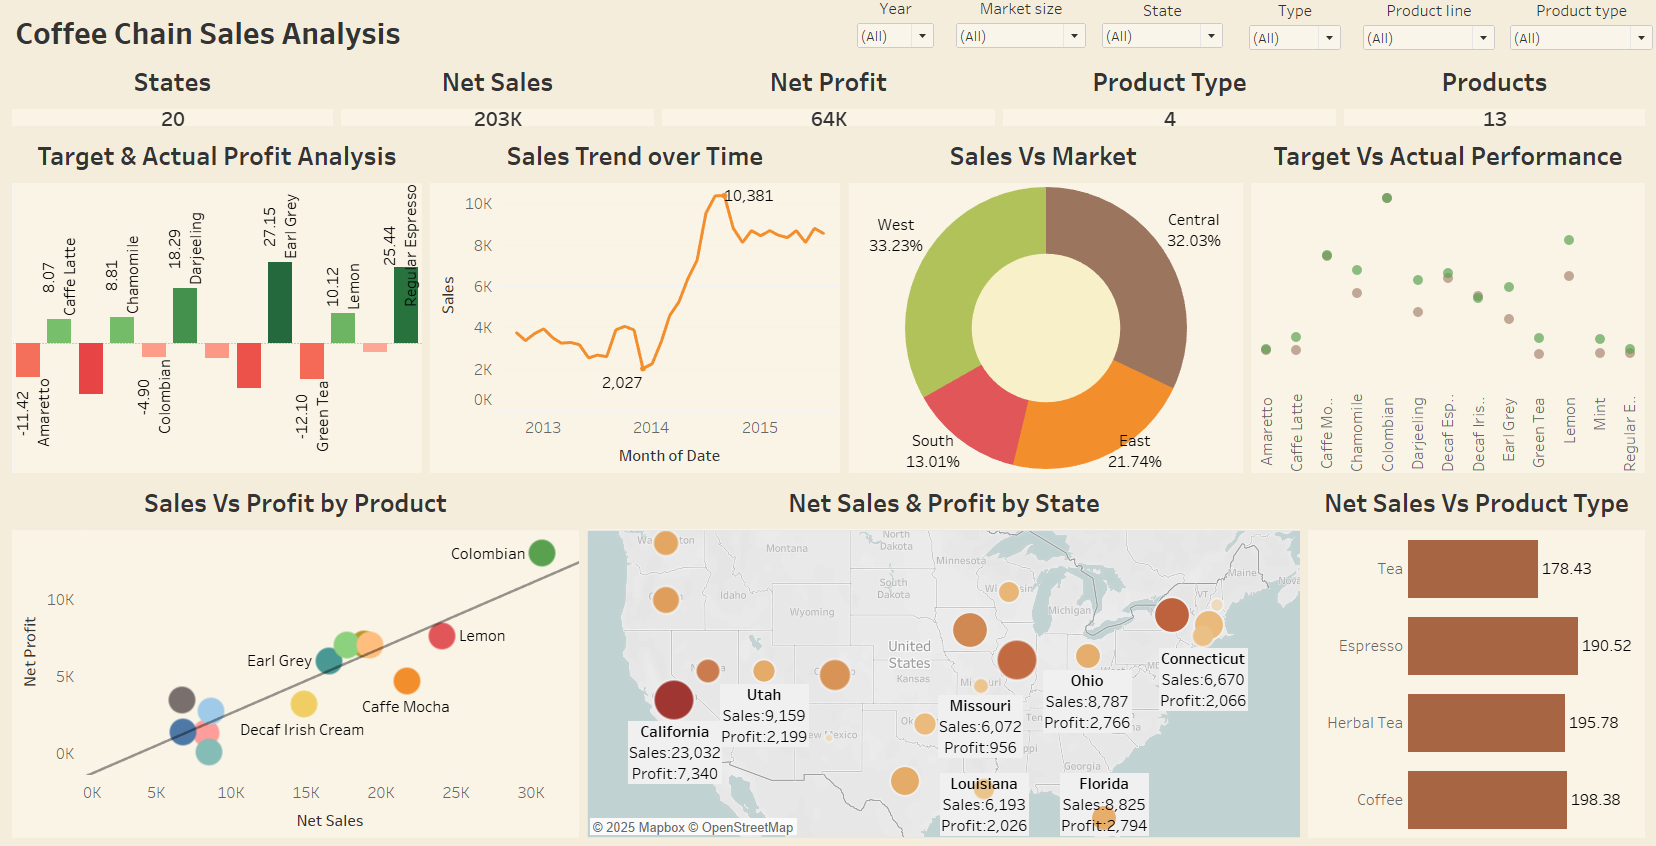

Layout of this report page (visuals, bound fields, positions):
{"tool":"tableau","page":{"name":"Dashboard 1","canvas":[1000,1000],"units":"permille","ordinal":0},"visuals":[{"type":"filter","title":"Products","param":"[federated.0sj3umk14eqh6s1b9sfvx1420agt].[none:State:nk]","box":[663,1.2,76.9,58.8]},{"type":"filter","title":"Products","param":"[federated.0sj3umk14eqh6s1b9sfvx1420agt].[none:Type:nk]","box":[752.1,1.2,59,64.6]},{"type":"filter","title":"Products","param":"[federated.0sj3umk14eqh6s1b9sfvx1420agt].[none:Product_line:nk]","box":[821,1.2,83,64.6]},{"type":"filter","title":"Products","param":"[federated.0sj3umk14eqh6s1b9sfvx1420agt].[none:Product_type:nk]","box":[909.6,1.2,89.8,63.5]},{"type":"title","box":[4.9,9.4,990.2,57.6]},{"type":"worksheet","title":"States","mark":"Automatic","box":[4.9,67,198.8,86.9]},{"type":"worksheet","title":"Net Sales","mark":"Automatic","box":[203.7,67,193.6,86.9]},{"type":"worksheet","title":"Net Profit","mark":"Automatic","box":[397.3,67,205.5,86.9]},{"type":"worksheet","title":"Product Type","mark":"Automatic","box":[602.8,67,205.6,86.9]},{"type":"worksheet","title":"Products","mark":"Automatic","box":[808.4,67,186.7,86.9]},{"type":"worksheet","title":"Target & Actual Profit Analysis","mark":"Automatic","rows":["DifferenceBetweenActualandTargetProfit"],"cols":["Product"],"box":[4.9,153.9,252.4,407.8]},{"type":"worksheet","title":"Sales Trend over Time","mark":"Automatic","rows":["Sales"],"cols":["Date"],"box":[257.4,153.9,252.5,407.8]},{"type":"worksheet","title":"Sales Vs Market ","mark":"Pie","rows":["Calculation_1449596177752535041","Calculation_1449596177752535041"],"box":[509.8,153.9,242.6,407.8]},{"type":"worksheet","title":"Target Vs Actual Performance","mark":"Circle","rows":["Target_sales","Sales"],"cols":["Product"],"box":[752.4,153.9,242.7,407.8]},{"type":"worksheet","title":"Sales Vs Profit by Product","mark":"Circle","rows":["Profit"],"cols":["Sales"],"box":[4.9,561.6,346.9,429]},{"type":"worksheet","title":"Sales & Profit by State","mark":"Automatic","box":[351.8,561.6,435.4,429]},{"type":"worksheet","title":"Sales Vs Product Type","mark":"Automatic","rows":["Product_type"],"cols":["Sales"],"box":[787.2,561.6,207.9,429]}]}

Visuals, with their boxes on the dashboard's canvas, which has no fixed pixel size, in thousandths of its width and height (x1, y1, x2, y2). These are canvas units, not pixel positions in the 1656x846 screenshot, which may show the page scaled, cropped or inside an application window:
"Products" filter: bbox=(663, 1, 740, 60)
"Products" filter: bbox=(752, 1, 811, 66)
"Products" filter: bbox=(821, 1, 904, 66)
"Products" filter: bbox=(910, 1, 999, 65)
title: bbox=(5, 9, 995, 67)
"States" worksheet: bbox=(5, 67, 204, 154)
"Net Sales" worksheet: bbox=(204, 67, 397, 154)
"Net Profit" worksheet: bbox=(397, 67, 603, 154)
"Product Type" worksheet: bbox=(603, 67, 808, 154)
"Products" worksheet: bbox=(808, 67, 995, 154)
"Target & Actual Profit Analysis" worksheet: bbox=(5, 154, 257, 562)
"Sales Trend over Time" worksheet: bbox=(257, 154, 510, 562)
"Sales Vs Market " worksheet (Pie marks): bbox=(510, 154, 752, 562)
"Target Vs Actual Performance" worksheet (Circle marks): bbox=(752, 154, 995, 562)
"Sales Vs Profit by Product" worksheet (Circle marks): bbox=(5, 562, 352, 991)
"Sales & Profit by State" worksheet: bbox=(352, 562, 787, 991)
"Sales Vs Product Type" worksheet: bbox=(787, 562, 995, 991)
